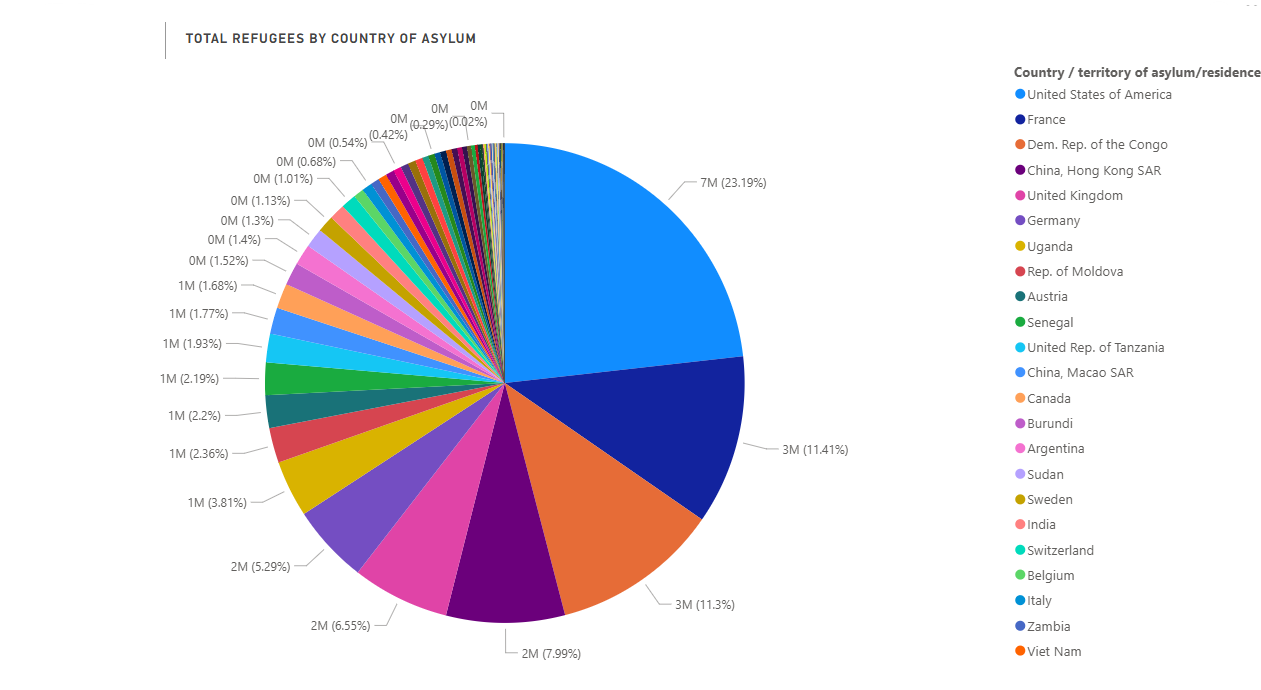

The page's visual inventory and layout, read from the dashboard file:
{"tool":"powerbi","page":{"name":"Total Refugees by Country of Asylum","canvas":[1280,720],"ordinal":3},"visuals":[{"type":"pieChart","title":"Total Refugees by Country of Asylum","fields":{"Y":["Sum(project persons_of_concern.Refugees (incl. refugee-like situations))"],"Category":["project persons_of_concern.Country / territory of asylum/residence"]},"box":[10.6,0,1269.7,720.8],"z":0}]}

Visuals, with their boxes in screenshot pixels (x1, y1, x2, y2), scaled from the page's 1280x720 canvas onto the 1261x690 screenshot:
"Total Refugees by Country of Asylum" pieChart: left=10, top=0, right=1260, bottom=689
